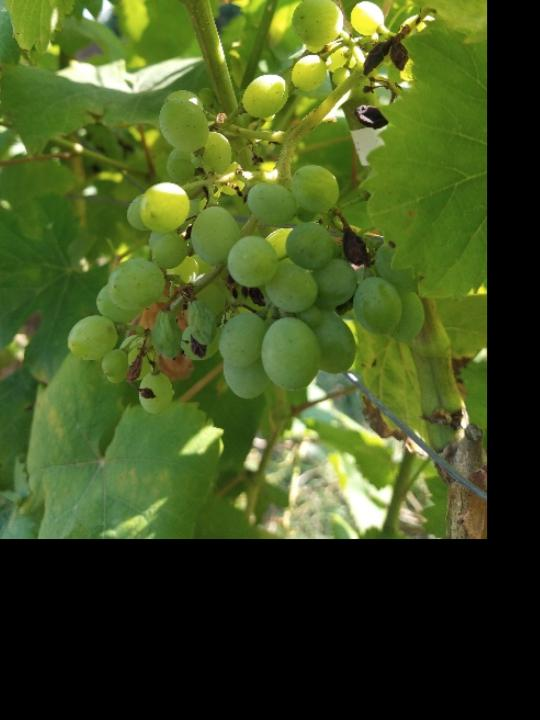grape: (64, 0, 434, 419)
